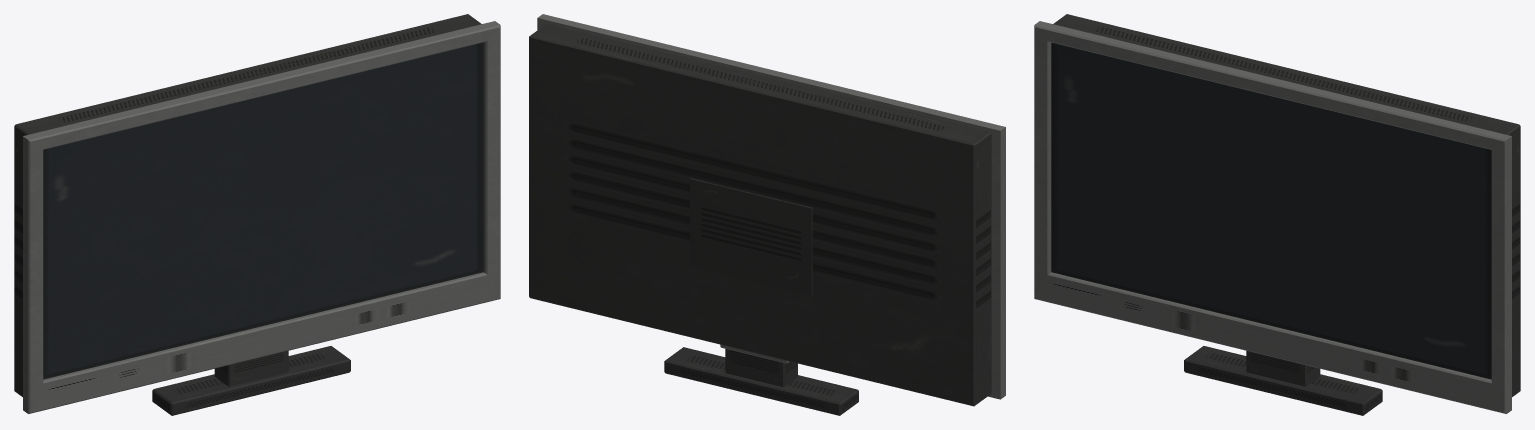
3 views of the same model, side by side, from view 1: azimuth 30°, elevation 25°; view 2: azimuth 150°, elevation 25°; view 3: azimuth 330°, elevation 25° (orthographic).
Visible parts, largest first — view 1: core_tv; view 2: core_tv; view 3: core_tv.
Boxes of the visible parts, x1,y1,x2,y2 form: core_tv: (14,14,500,415); core_tv: (529,14,1005,415); core_tv: (1034,14,1520,415).
Bounding box in the file's own units: 1.1 × 0.7 × 0.1.
Materials: 1 (1 with a texture image).
